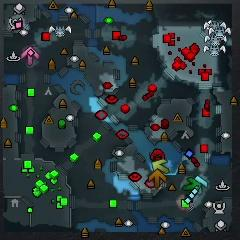x1: (21, 46, 40, 66)
x2: (153, 158, 169, 175)
x3: (195, 175, 210, 187)
x4: (183, 178, 201, 194)
x5: (149, 168, 166, 189)
